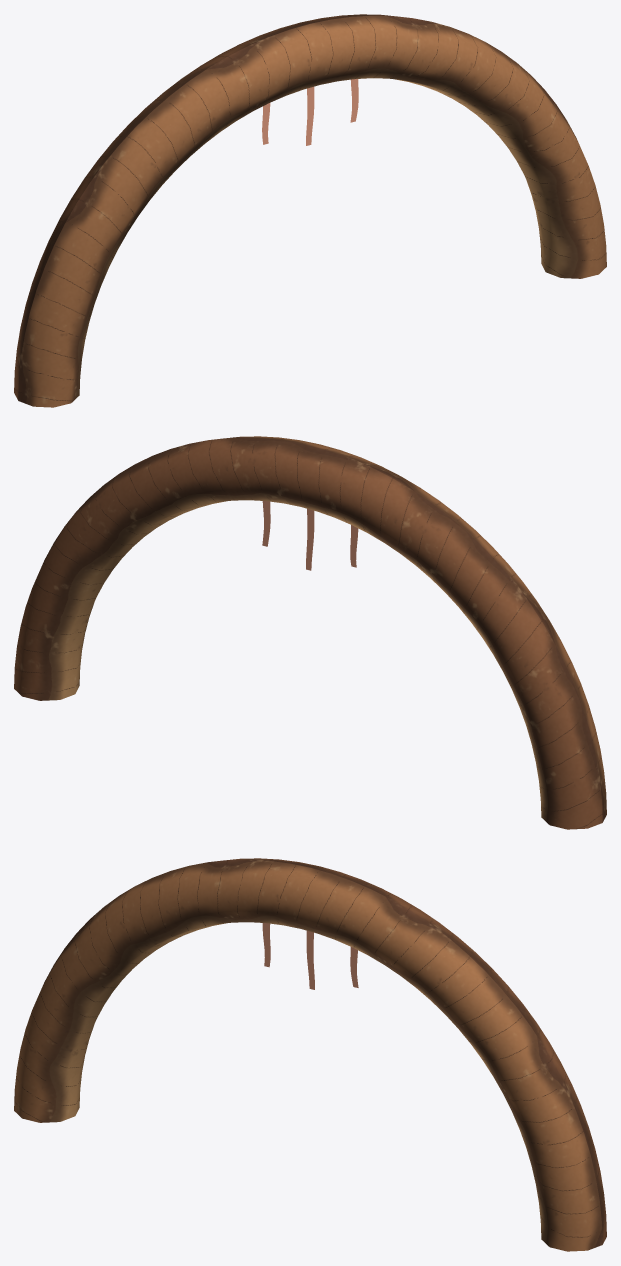
The model's file is arch.glb.
3 renders of one model, top to bottom at view 1: azimuth 30°, elevation 25°; view 2: azimuth 150°, elevation 25°; view 3: azimuth 330°, elevation 25°, orthographic.
Parts seen in each view (by area): view 1: Arch; view 2: Arch; view 3: Arch.
Boxes of the visible parts, x1,y1,x2,y2 form: Arch: (14, 14, 606, 407); Arch: (14, 436, 606, 829); Arch: (14, 858, 606, 1251).
Bounding box in the file's own units: 53.2 × 26.6 × 4.95.
2 materials, 1 textured.
